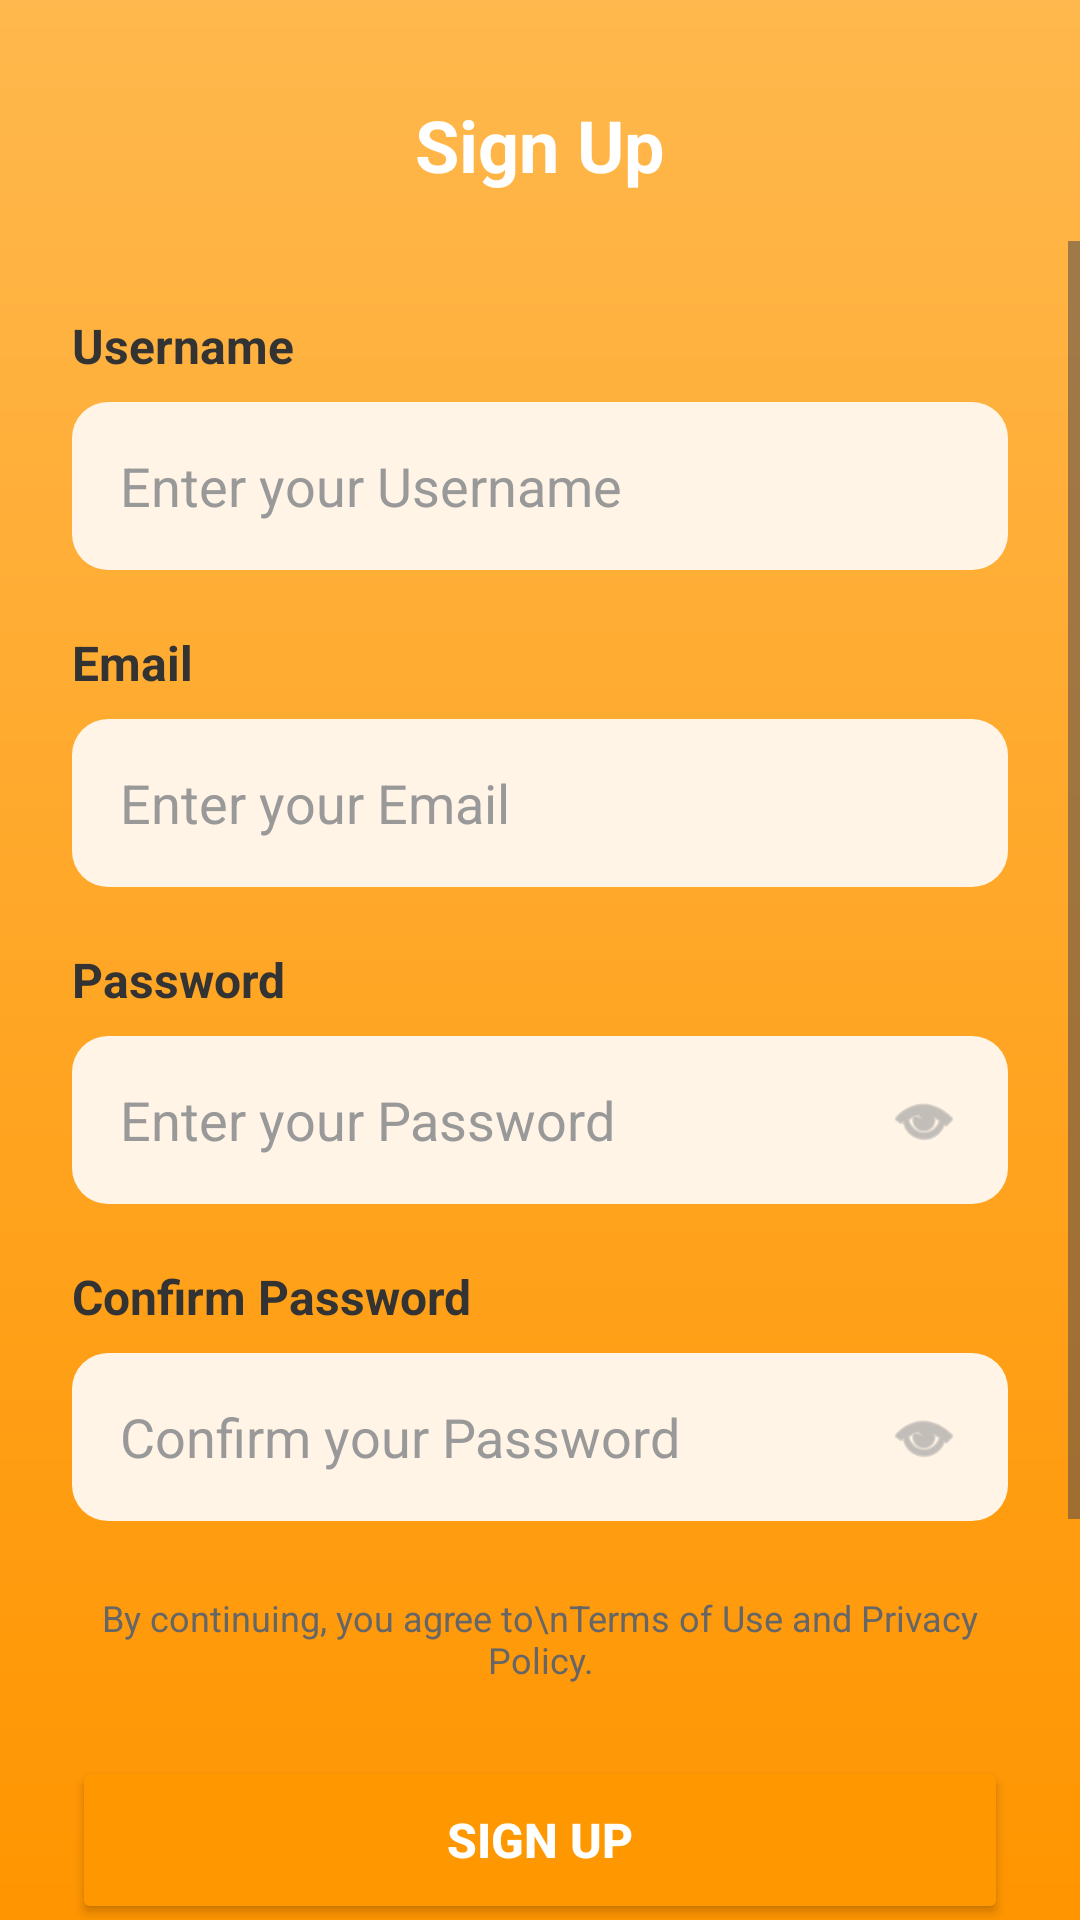

Icon click points for this 1080×1920 phone screenshot, format point (x, y):
view: point (924, 1122), point (924, 1439)
